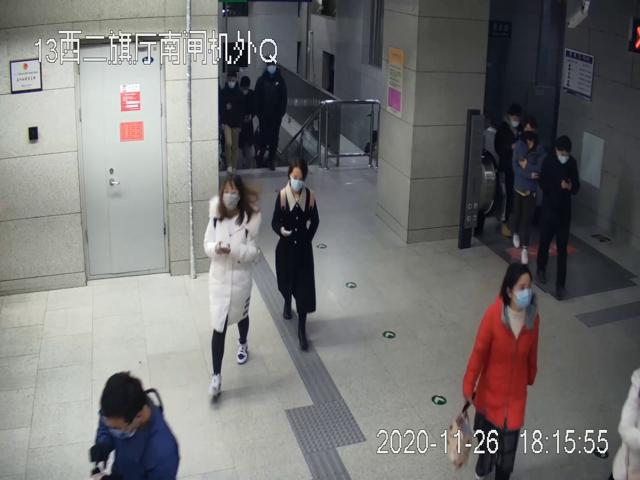person: (462, 260, 541, 480), (203, 171, 262, 399), (271, 158, 321, 351), (541, 135, 581, 298), (510, 116, 546, 259)
